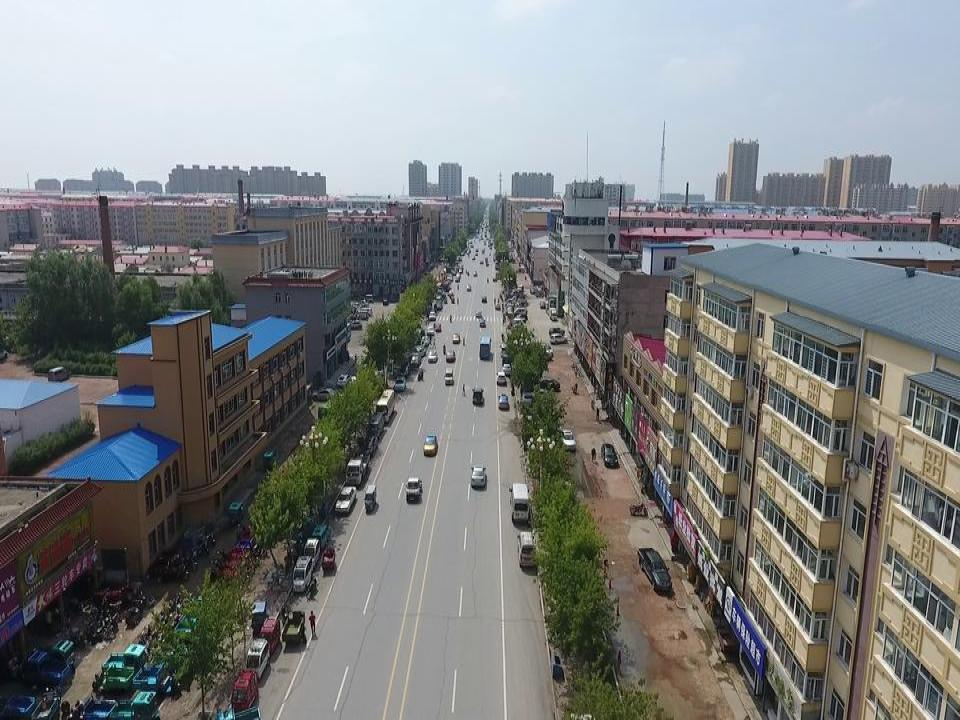bus: (375, 388, 395, 423), (479, 336, 492, 360)
car: (335, 484, 356, 517), (310, 385, 338, 403), (600, 443, 618, 469), (558, 428, 577, 452), (520, 391, 545, 408), (360, 435, 378, 457), (539, 376, 560, 393), (471, 465, 486, 488), (531, 344, 554, 359), (423, 435, 438, 456), (350, 375, 368, 388), (472, 387, 485, 405), (336, 373, 352, 387), (393, 376, 406, 392), (550, 333, 568, 344), (496, 371, 506, 388), (399, 362, 410, 377), (498, 395, 509, 410), (499, 343, 510, 357), (548, 326, 566, 334), (414, 339, 425, 352), (446, 349, 456, 363), (410, 354, 421, 366), (349, 319, 362, 329), (412, 348, 426, 357), (356, 311, 370, 320), (420, 334, 430, 346), (427, 350, 437, 362), (502, 363, 511, 376), (452, 332, 460, 344), (426, 327, 435, 336), (479, 317, 486, 328), (361, 307, 372, 314), (475, 310, 482, 318), (465, 284, 472, 292), (382, 298, 389, 306), (481, 296, 487, 303)
truck: (637, 547, 673, 592), (346, 454, 367, 483), (405, 476, 423, 503), (549, 307, 557, 321)
van: (509, 481, 531, 524), (516, 529, 536, 567), (367, 412, 385, 437), (367, 368, 385, 392), (444, 368, 454, 385), (362, 293, 374, 303)
